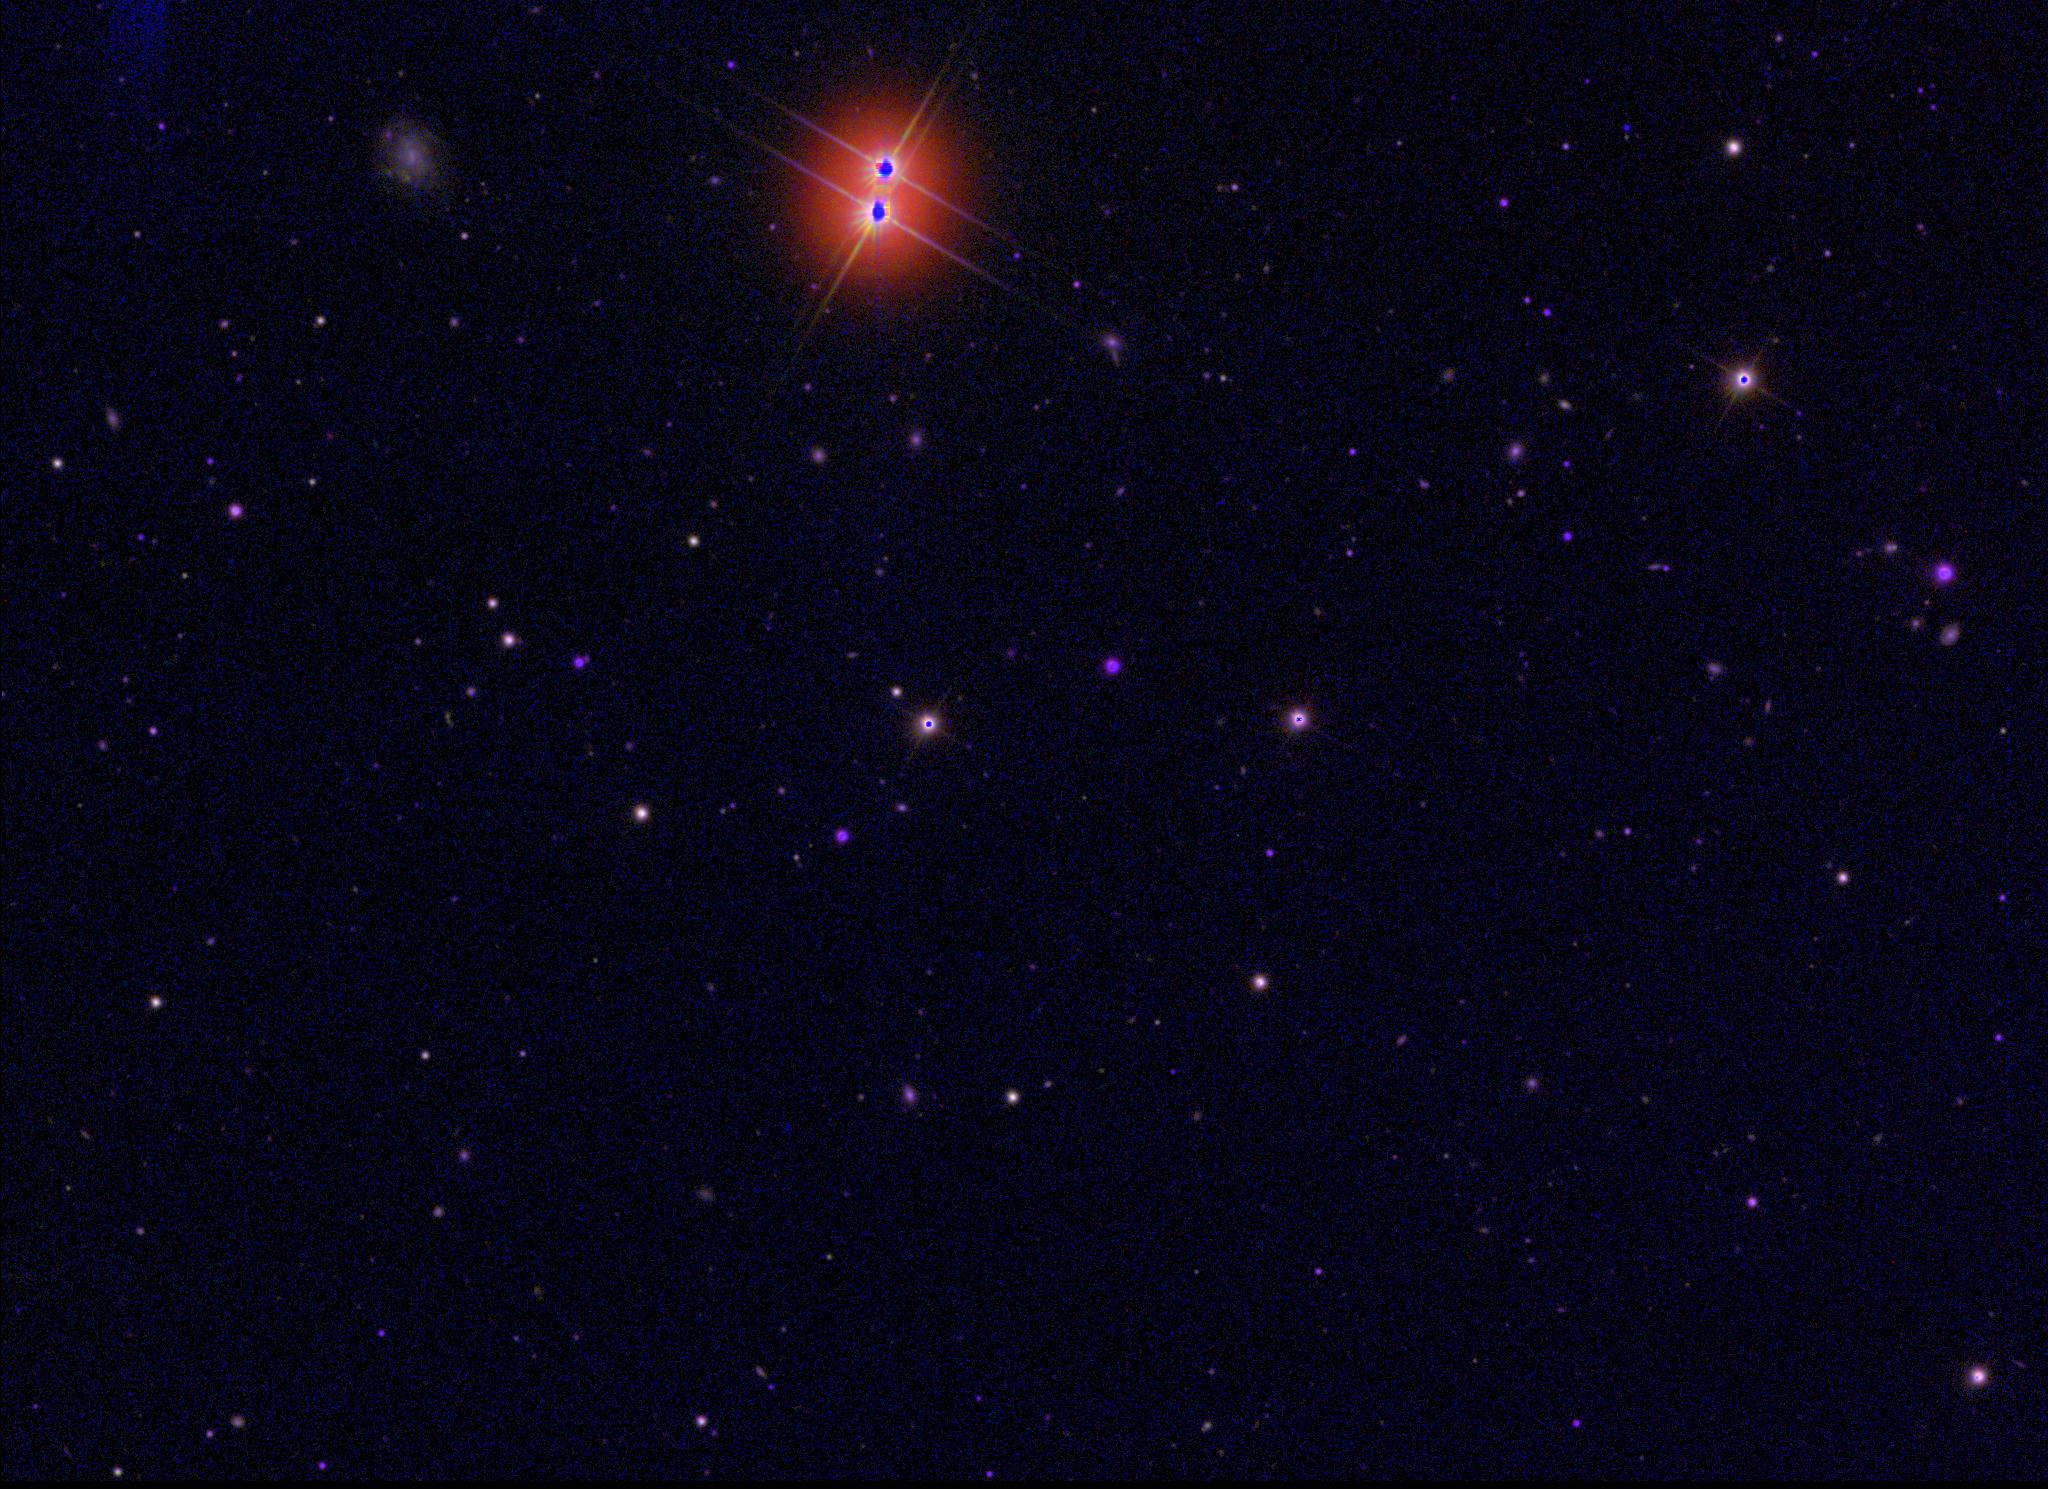L: (1619, 118, 1631, 132)
